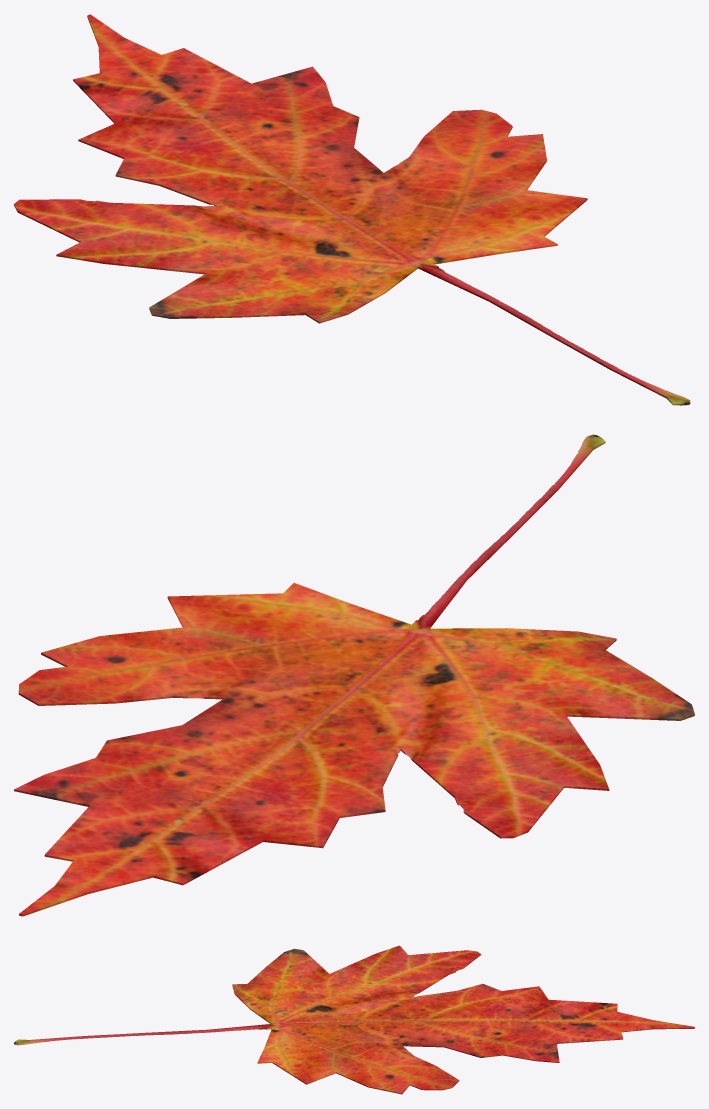
The model's file is leaf_4_atlas.fbx.
3 renders of one model, top to bottom at view 1: azimuth 30°, elevation 25°; view 2: azimuth 150°, elevation 25°; view 3: azimuth 270°, elevation 25°, orthographic. The views are drawn at different scales.
Visible parts, largest first — view 1: leaf_04; view 2: leaf_04; view 3: leaf_04.
Boxes of the visible parts, bbox=[...] form: leaf_04: bbox=[14, 14, 690, 405]; leaf_04: bbox=[14, 434, 694, 916]; leaf_04: bbox=[14, 945, 694, 1094].
Size of the model in its own units: 128 by 0.3904 by 249.
